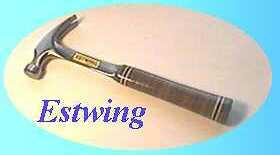hammer: (22, 12, 234, 125)
